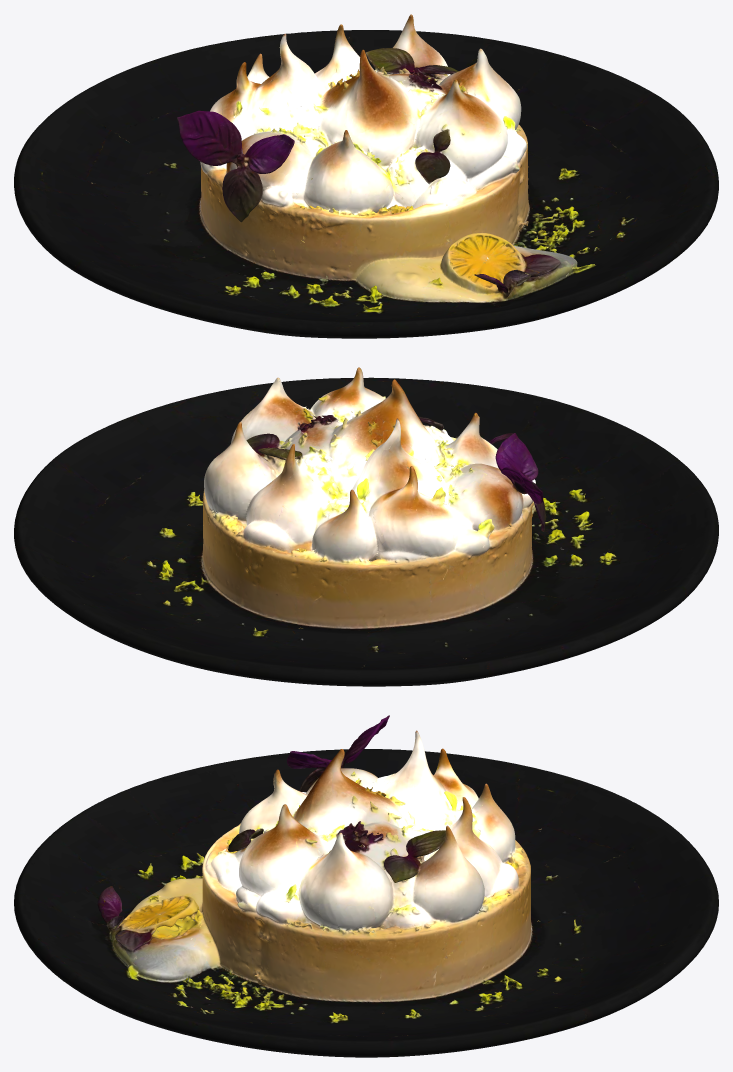
Rendered from tarte-citron-basilic-meshy.glb.
3 views of the same model, one above another, from view 1: azimuth 30°, elevation 25°; view 2: azimuth 150°, elevation 25°; view 3: azimuth 270°, elevation 25° (orthographic).
Size of the model in its own units: 1.9 by 0.6521 by 1.9.
Materials: 1 (1 with a texture image).
